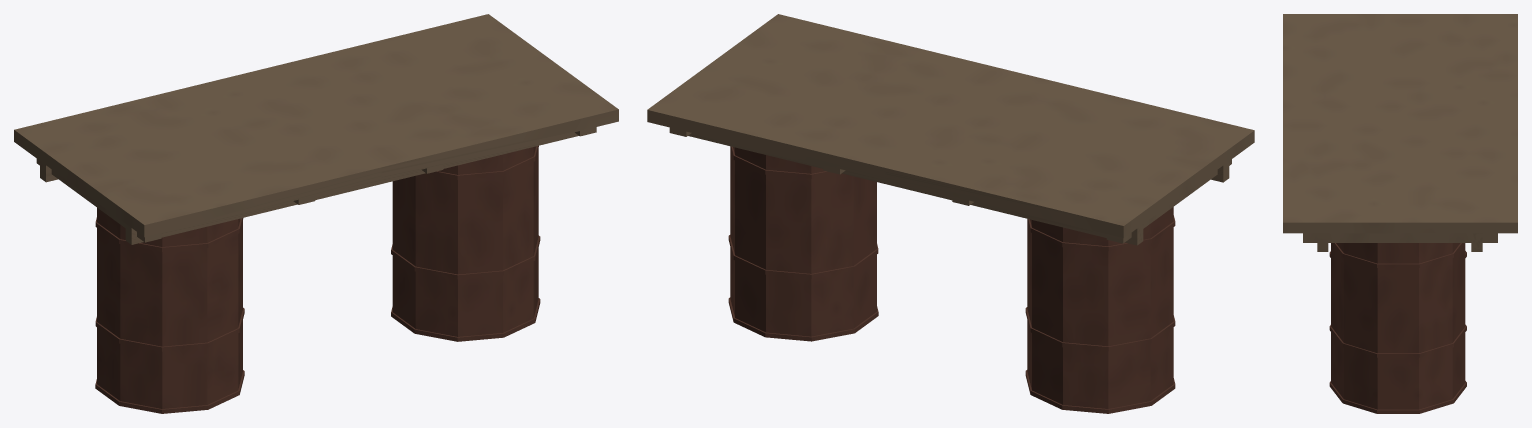
The model's file is TableBochki.fbx.
The picture shows the model from 3 angles, left to right: view 1: azimuth 30°, elevation 25°; view 2: azimuth 150°, elevation 25°; view 3: azimuth 270°, elevation 25°; orthographic projection. The views are drawn at different scales.
Parts seen in each view (by area): view 1: Cylinder.003; view 2: Cylinder.003; view 3: Cylinder.003.
Part boxes in pixels (x1=…): Cylinder.003: x1=14, y1=14, x2=618, y2=413; Cylinder.003: x1=647, y1=14, x2=1254, y2=413; Cylinder.003: x1=1283, y1=14, x2=1517, y2=413.
Size of the model in its own units: 279 by 127 by 133.
